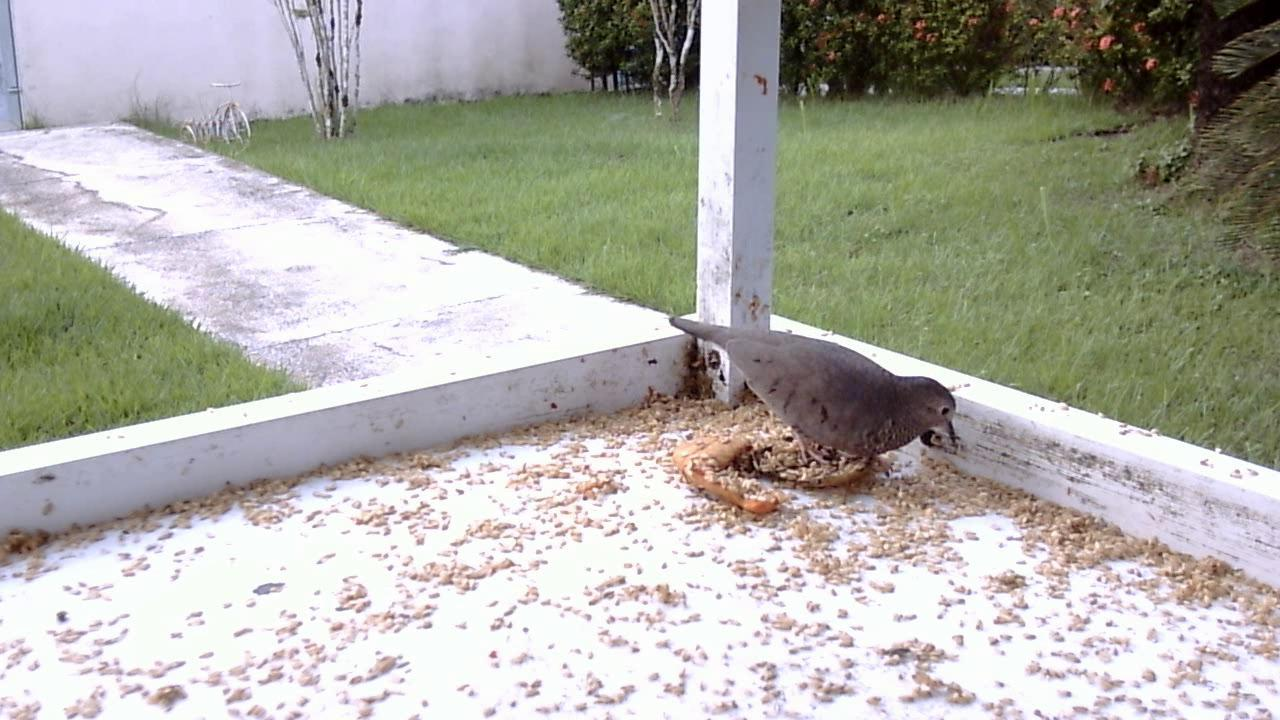rolinha: (671, 316, 963, 486)
